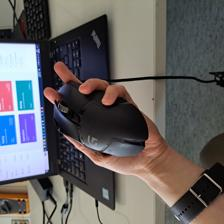mouse: (51, 81, 150, 157)
